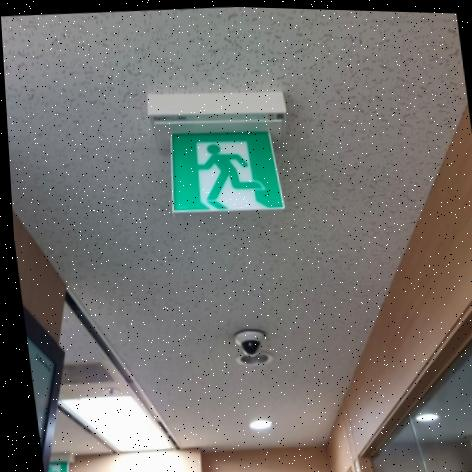emergency_exit: (147, 90, 288, 214), (169, 129, 285, 213)
